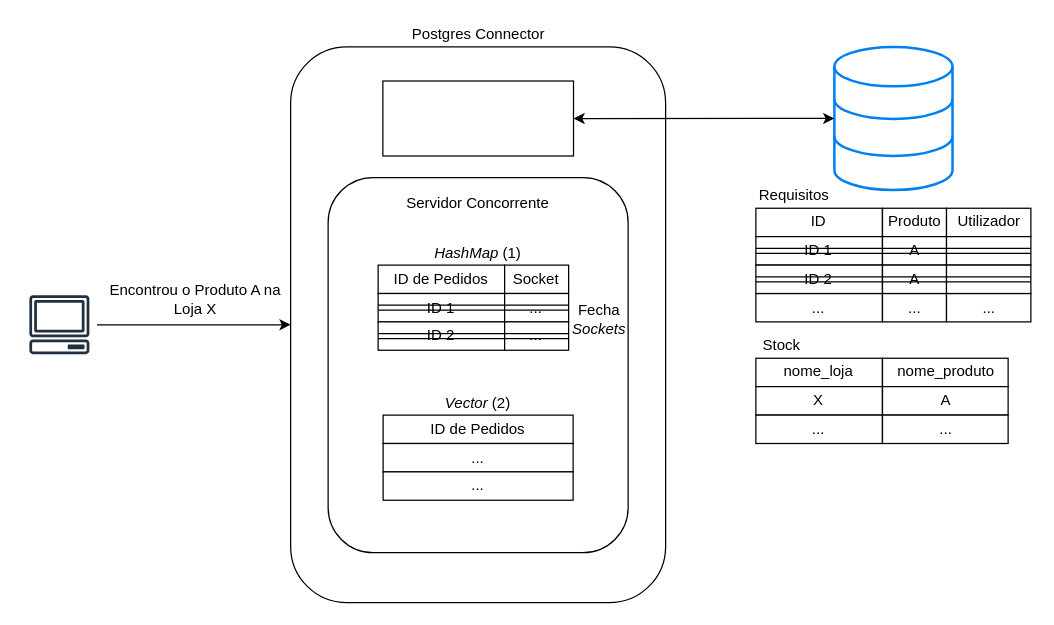
Image size: 1054x625. Some labels were removed from this diagram. Here are the shapes that lost their labels. From the top down, the centre of each, then its label:
At point (478, 118): "Conecção à BD".
At point (988, 250): "Utilizador A".
At point (988, 279): "Utilizador B".
At point (59, 324): "Cliente A".
